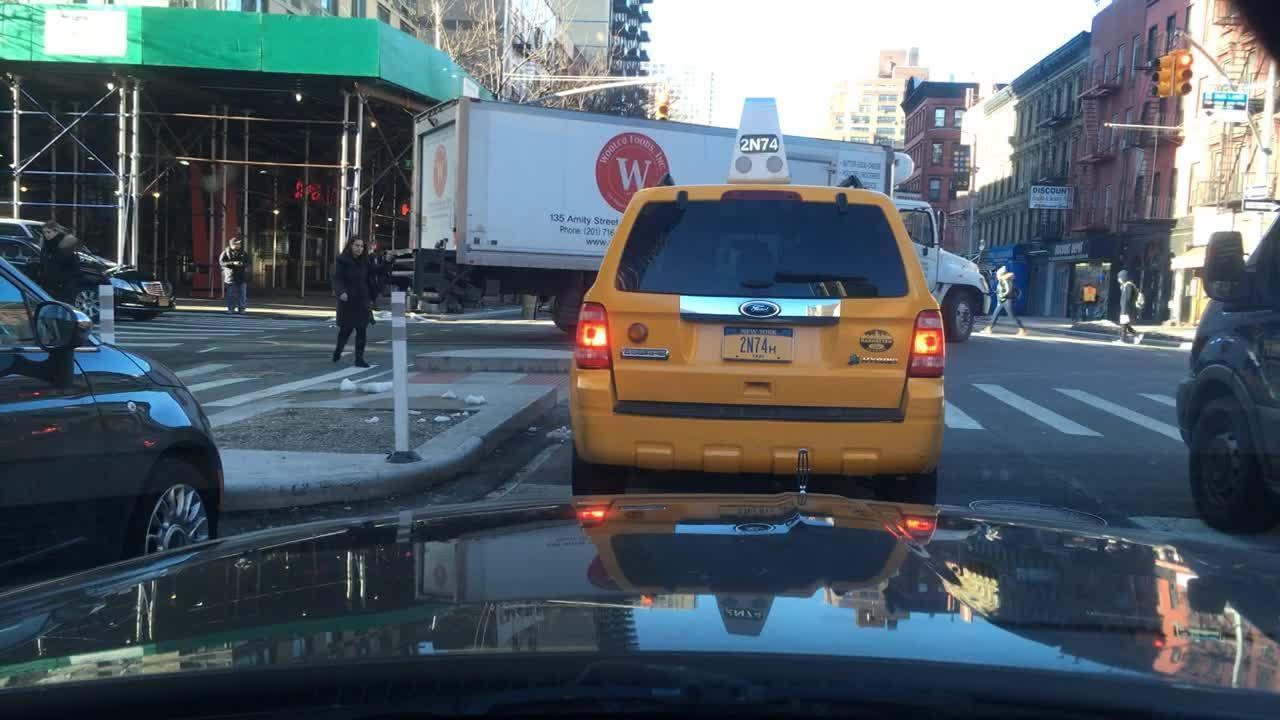ford: (736, 297, 784, 321)
lincoln: (790, 444, 814, 504)
